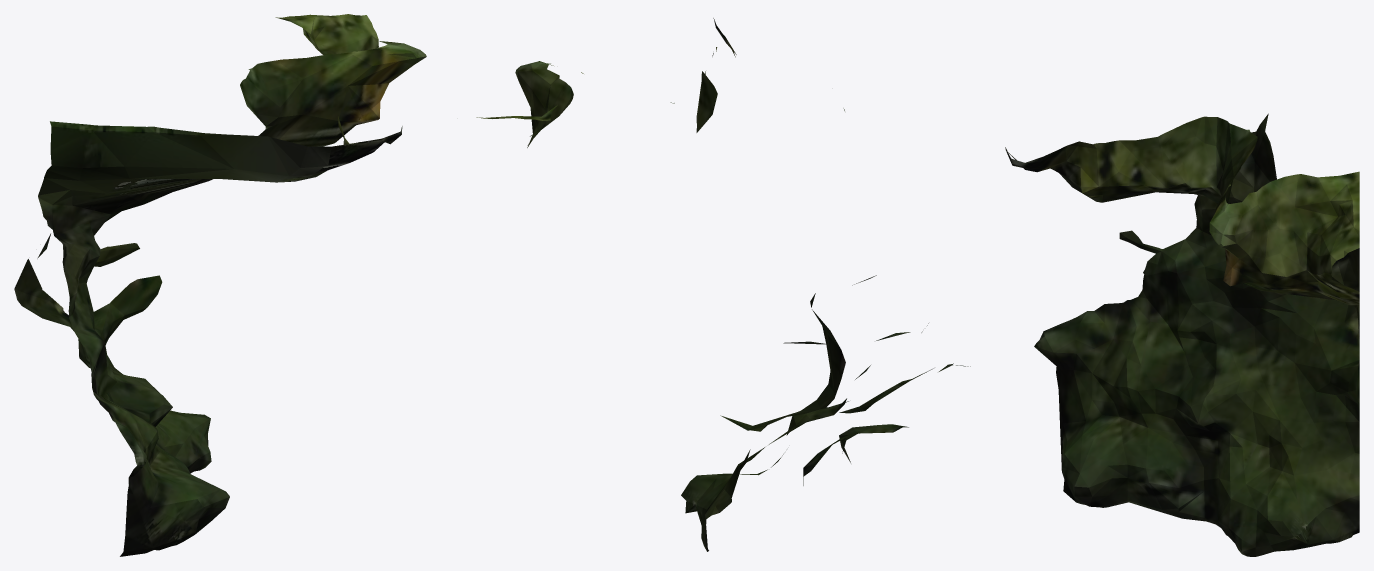
3 views of the same model, side by side, from view 1: azimuth 30°, elevation 25°; view 2: azimuth 150°, elevation 25°; view 3: azimuth 270°, elevation 25° (orthographic). The views are drawn at different scales.
Bounding box in the file's own units: 0.8373 × 0.8373 × 0.5967.
3 materials, 3 textured.
